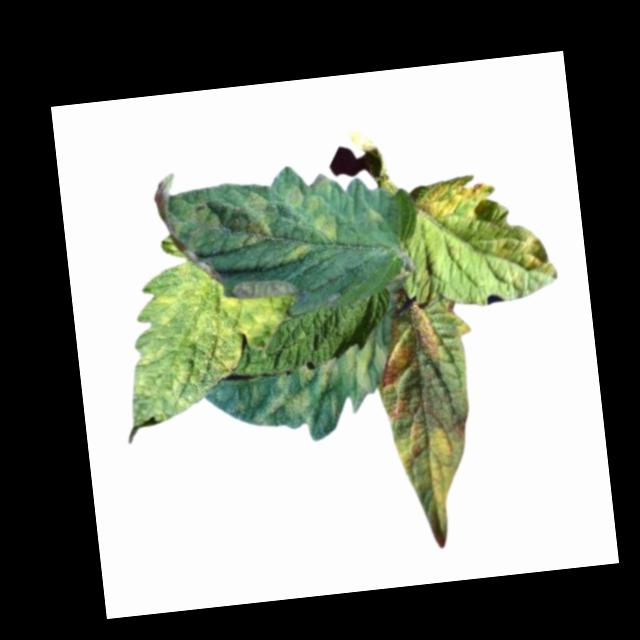Leaf_Mold: (371, 297, 492, 553), (115, 261, 286, 430), (412, 165, 572, 292), (155, 170, 348, 275), (262, 340, 387, 427)
